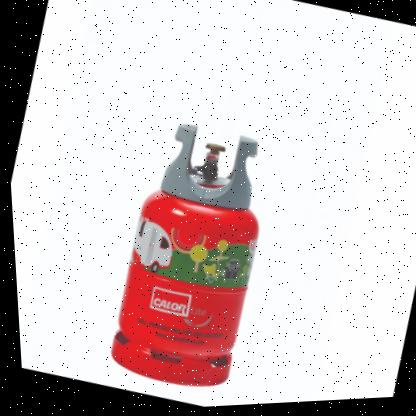gas-tank: (74, 92, 306, 412)
